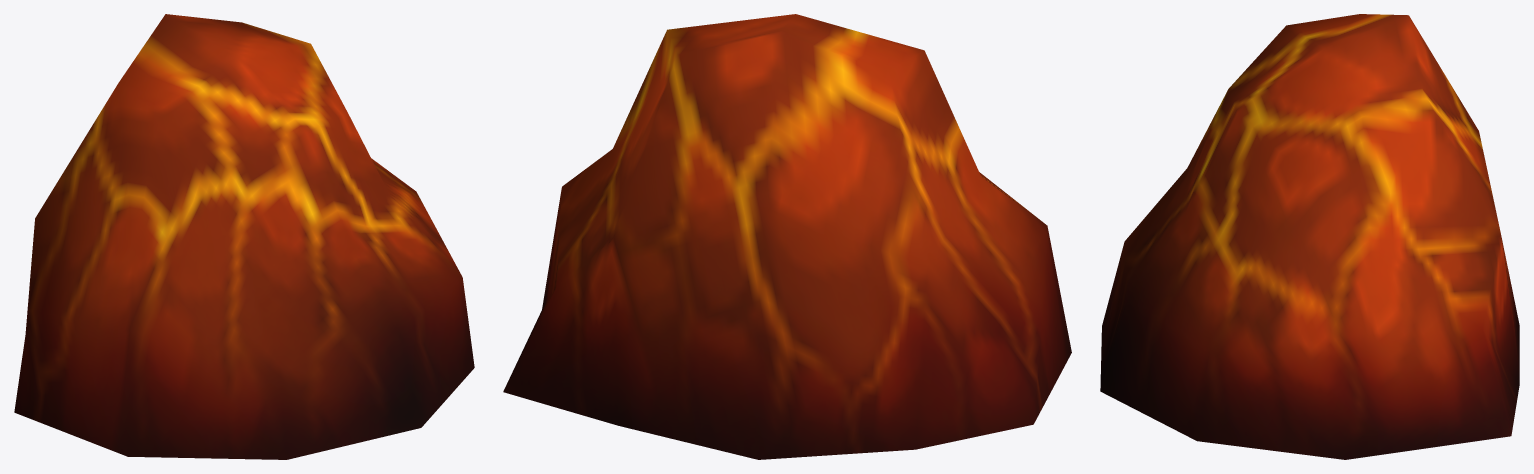
The model's file is Lava_Rock_01a.FBX.
3 views of the same model, side by side, from view 1: azimuth 30°, elevation 25°; view 2: azimuth 150°, elevation 25°; view 3: azimuth 270°, elevation 25° (orthographic). The views are drawn at different scales.
Parts seen in each view (by area): view 1: Lava_Rock_01a; view 2: Lava_Rock_01a; view 3: Lava_Rock_01a.
Boxes of the visible parts, box(x1,y1,x2,y2) form: Lava_Rock_01a: box(14, 14, 474, 459); Lava_Rock_01a: box(503, 14, 1071, 459); Lava_Rock_01a: box(1100, 14, 1519, 459).
Size of the model in its own units: 33.56 by 24.41 by 28.31.
